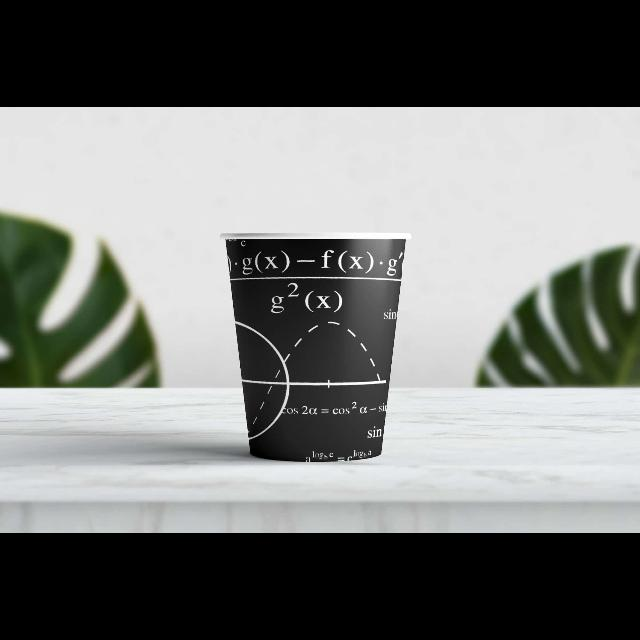trash: (219, 208, 451, 486)
